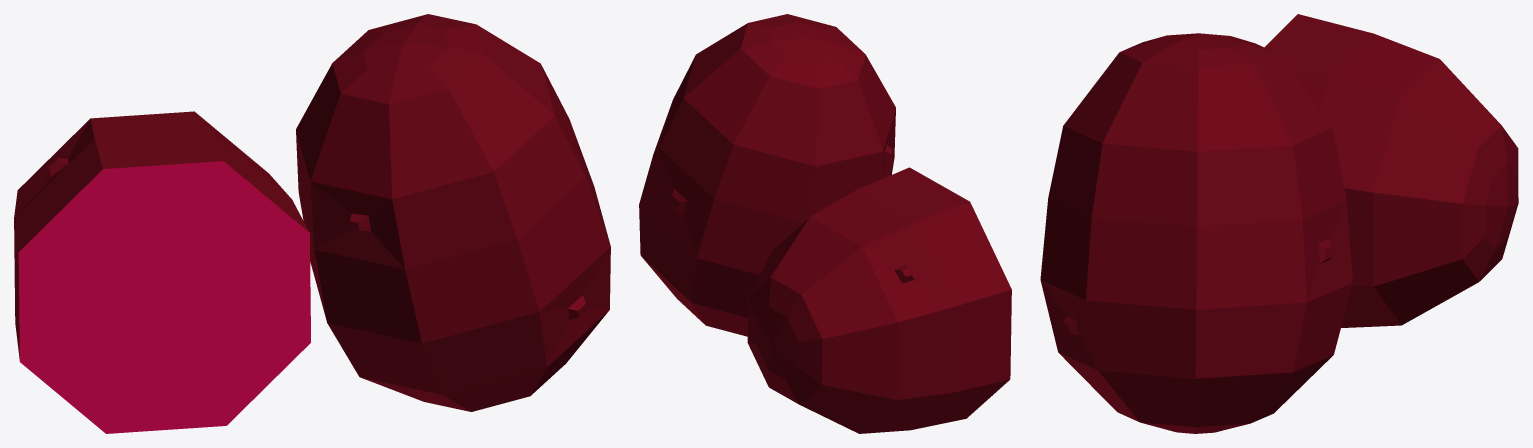
File: Potato_02.fbx
3 renders of one model, left to right at view 1: azimuth 30°, elevation 25°; view 2: azimuth 150°, elevation 25°; view 3: azimuth 270°, elevation 25°, orthographic. The views are drawn at different scales.
Visible parts, largest first — view 1: Potato_02; view 2: Potato_02; view 3: Potato_02.
Boxes of the visible parts, <box> form: Potato_02: <box>14,14,610,433</box>; Potato_02: <box>639,14,1011,433</box>; Potato_02: <box>1040,14,1518,433</box>.
Size of the model in its own units: 7.63 by 5.34 by 6.33.
